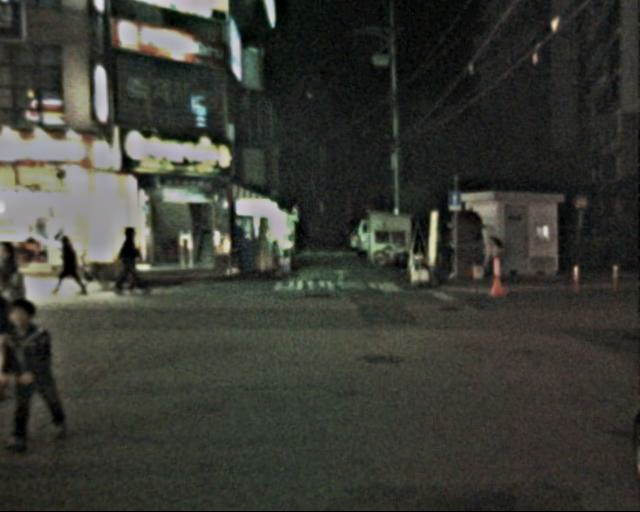person: (1, 289, 80, 455), (54, 227, 96, 301), (115, 224, 146, 301), (472, 233, 498, 292)
